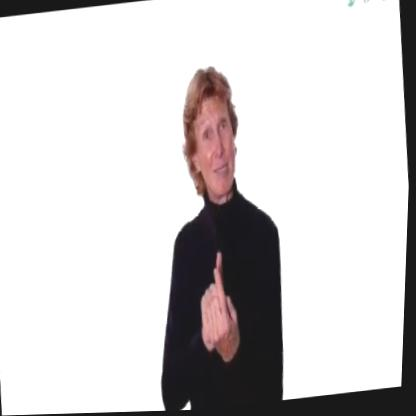NiceToMeetYou: (189, 238, 259, 377)
